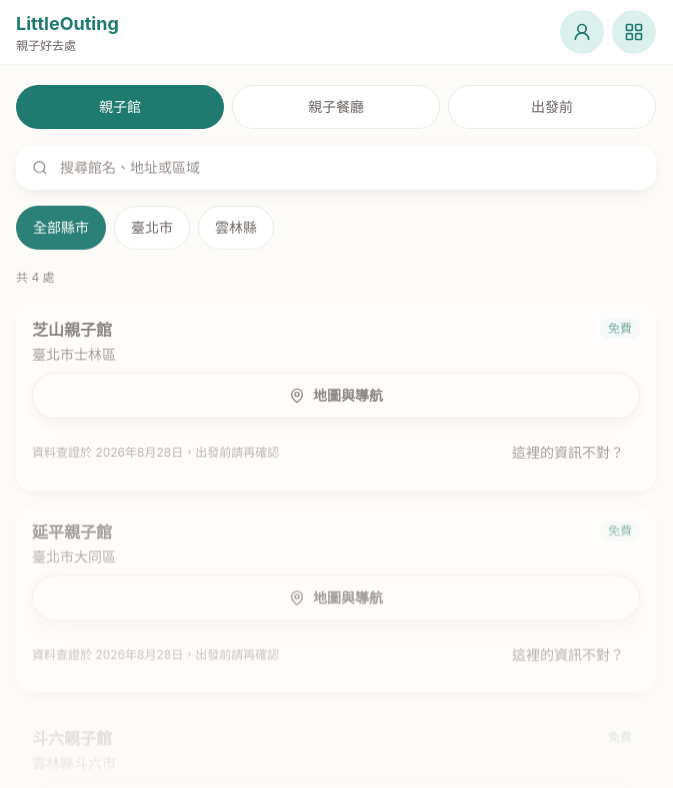
Test: 切換分頁時的篩選狀態 › 搜尋框有自己的標籤，切分頁時跟著換——placeholder 不是標籤
expect the search field named "搜尋親子館" is shown: met, box [16,146,656,190]
Click the button "親子餐廳" at (336, 107), box [232,85,440,129]
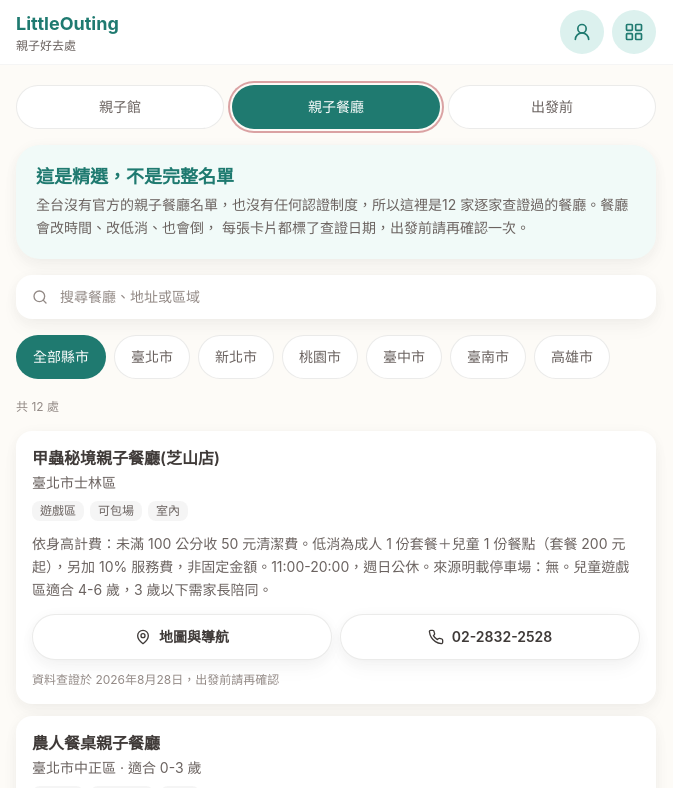
expect the heading "這是精選，不是完整名單" is shown: met, box [36,166,234,187]
expect the search field named "搜尋親子餐廳" is shown: met, box [16,275,656,319]
